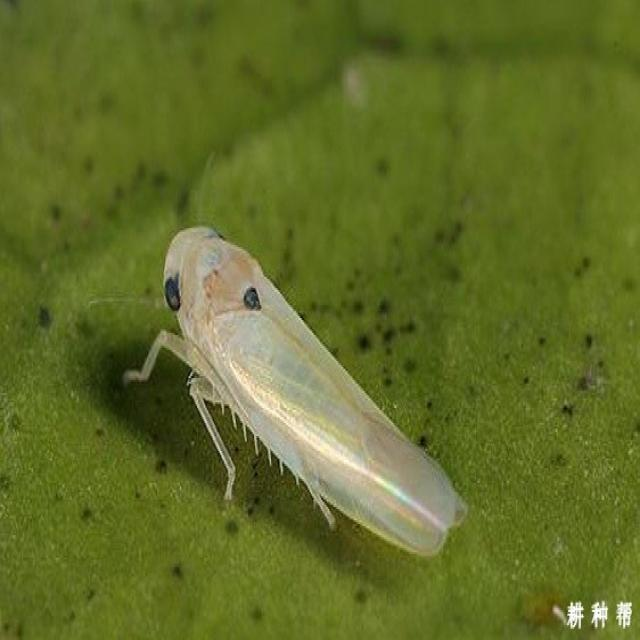Yechan: (145, 204, 463, 568)
